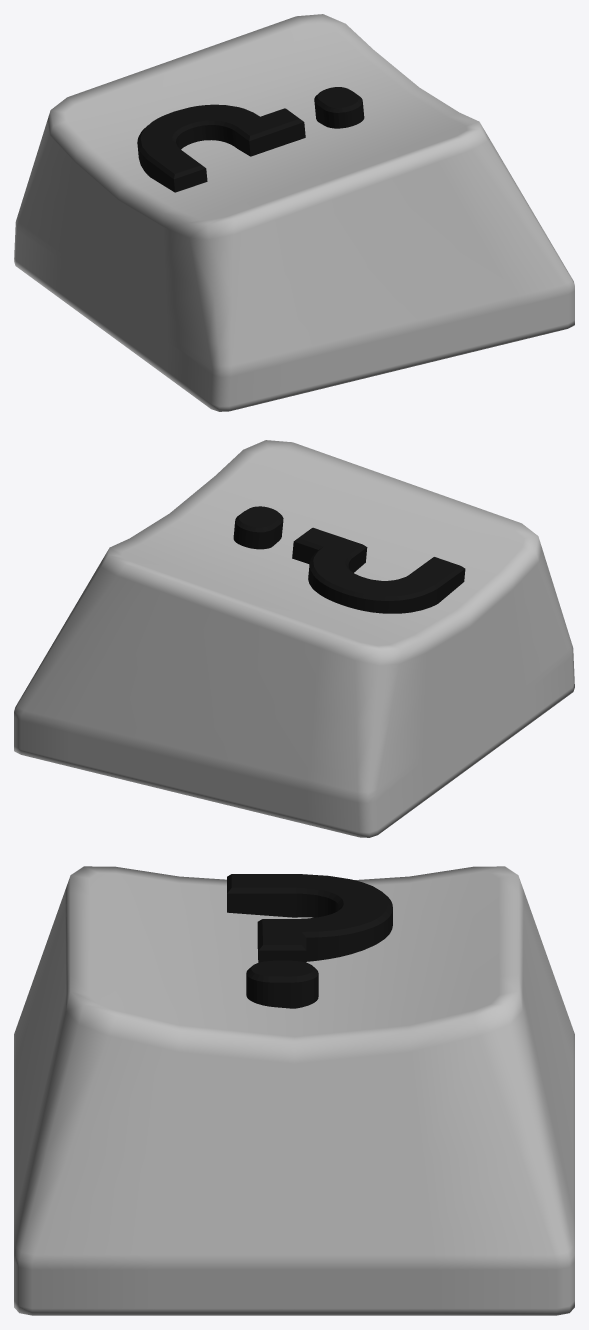
Rendered from Key.glb.
3 views of the same model, one above another, from view 1: azimuth 30°, elevation 25°; view 2: azimuth 150°, elevation 25°; view 3: azimuth 270°, elevation 25° (orthographic). The views are drawn at different scales.
Parts seen in each view (by area): view 1: Asset 1.001; view 2: Asset 1.001; view 3: Asset 1.001.
Boxes of the visible parts, x1,y1,x2,y2 form: Asset 1.001: [14, 14, 574, 411]; Asset 1.001: [14, 440, 574, 837]; Asset 1.001: [14, 866, 574, 1315].
Bounding box in the file's own units: 1.45 × 0.7496 × 1.45.
2 materials, 1 textured.
